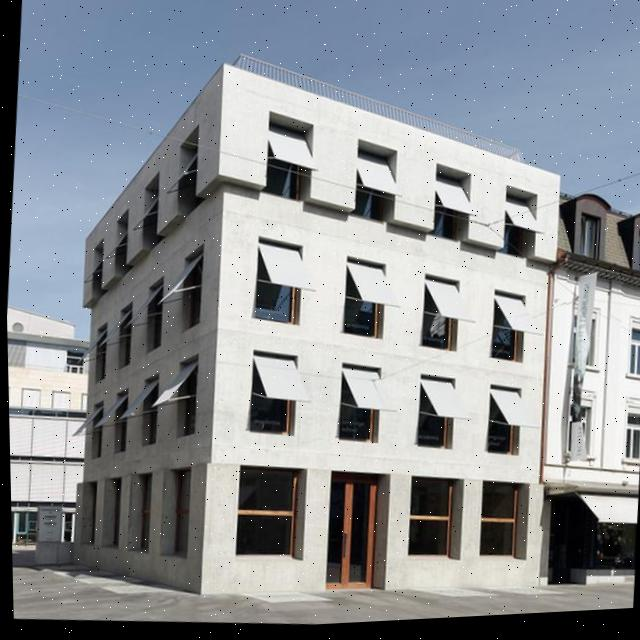building: (64, 29, 579, 616), (526, 171, 640, 613), (7, 293, 98, 522)
